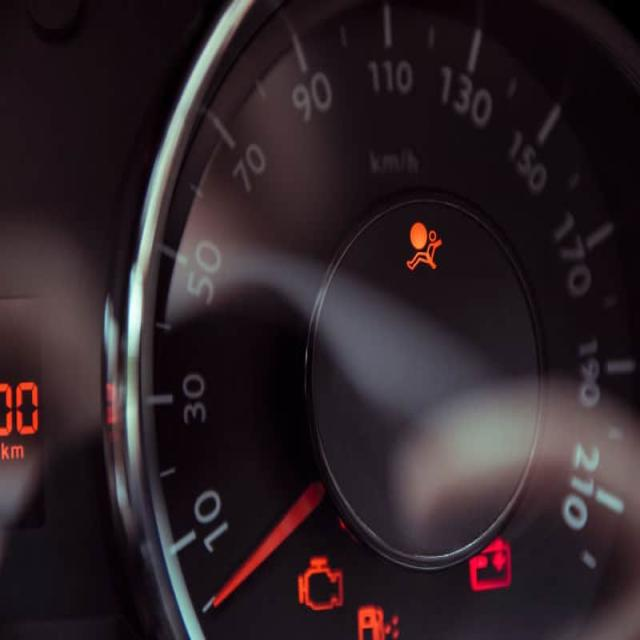Charging System Issue: (470, 533, 511, 591)
Check Engine: (298, 557, 344, 611)
SRS-Airbag: (407, 221, 442, 270)
